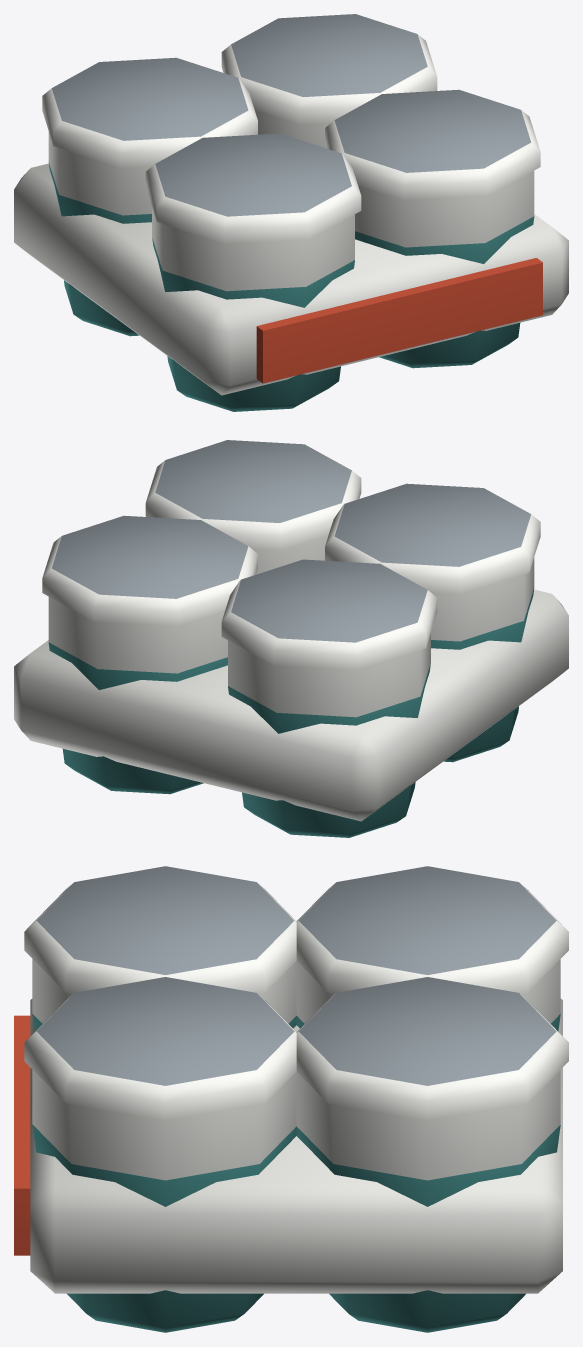
File: Yogurt_4Pack_01.glb
3 views of the same model, one above another, from view 1: azimuth 30°, elevation 25°; view 2: azimuth 150°, elevation 25°; view 3: azimuth 270°, elevation 25° (orthographic). The views are drawn at different scales.
Parts seen in each view (by area): view 1: SM_Yogurt_4Pack_01; view 2: SM_Yogurt_4Pack_01; view 3: SM_Yogurt_4Pack_01.
Boxes of the visible parts, <box> form: SM_Yogurt_4Pack_01: <box>14,14,568,411</box>; SM_Yogurt_4Pack_01: <box>14,440,568,837</box>; SM_Yogurt_4Pack_01: <box>14,866,568,1332</box>.
Bounding box in the file's own units: 0.133 × 0.07 × 0.1355.
1 material, 1 textured.
